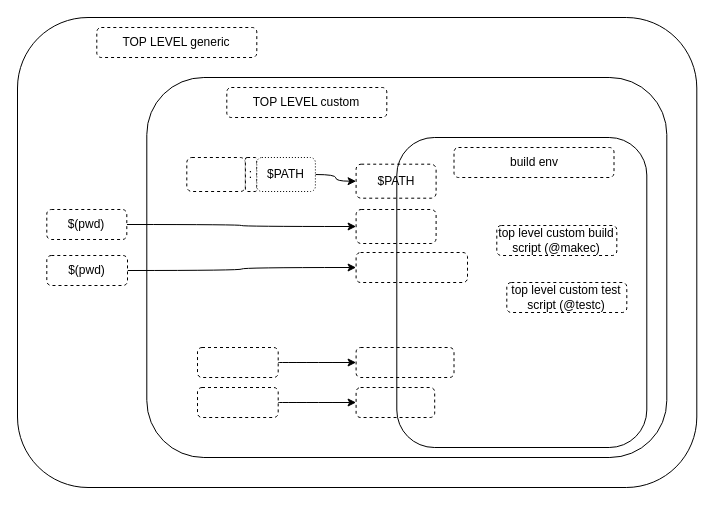
This 715x505 diagram has some shape labels left out. The shapes that lost their labels are listed below. From the top down, each one's box as (x1, y1, x2, y2) in pixels, then its label:
(186, 156, 245, 192): $TOOLS
(355, 208, 436, 244): $WD
(355, 252, 468, 282): $TARGETPATH
(355, 346, 454, 378): $PYTHONPATH
(355, 386, 435, 418): $TARGET
